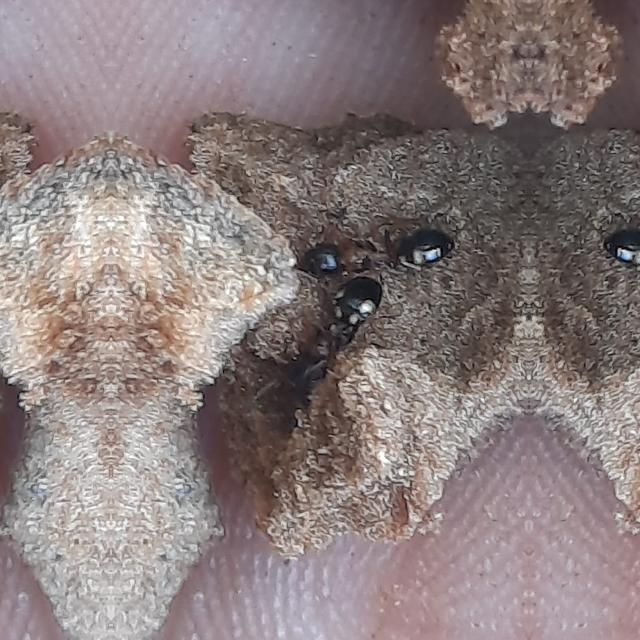Dolichoderus: (281, 272, 393, 416), (279, 213, 471, 284), (586, 212, 640, 284)
